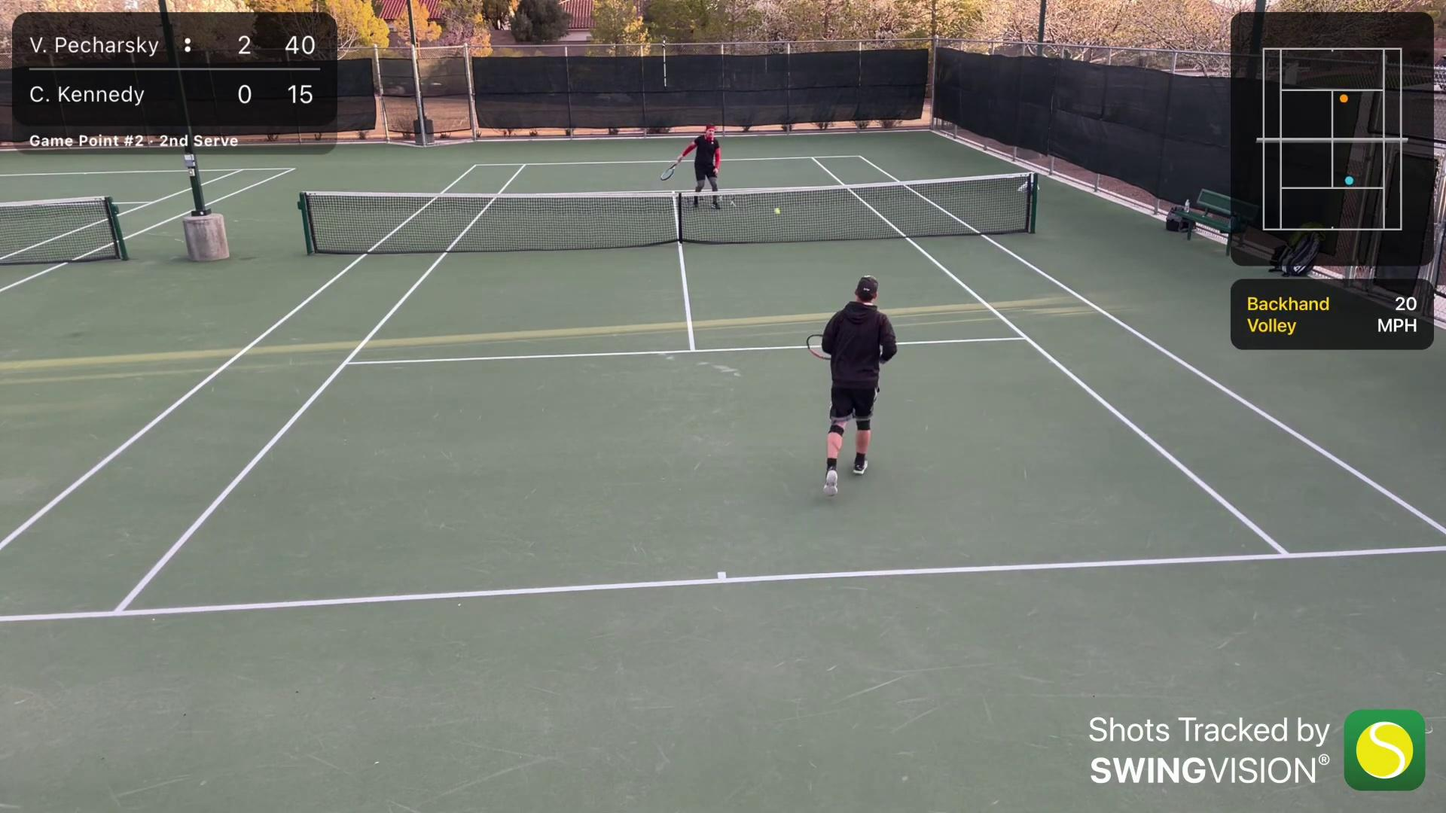ball: (774, 209, 782, 216)
